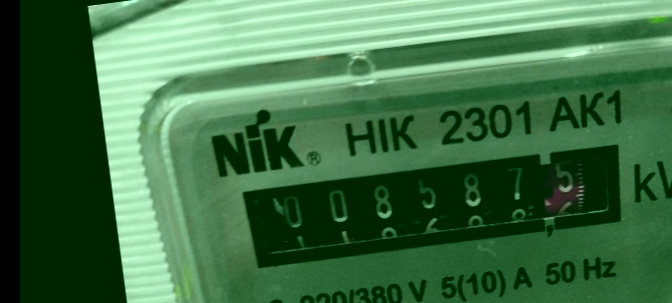0: (323, 182, 352, 225)
1: (278, 188, 307, 232)
5: (550, 153, 579, 196), (414, 171, 441, 212)
7: (502, 161, 530, 204)
8: (367, 178, 397, 222), (458, 167, 485, 210)
screen: (220, 119, 650, 292)
